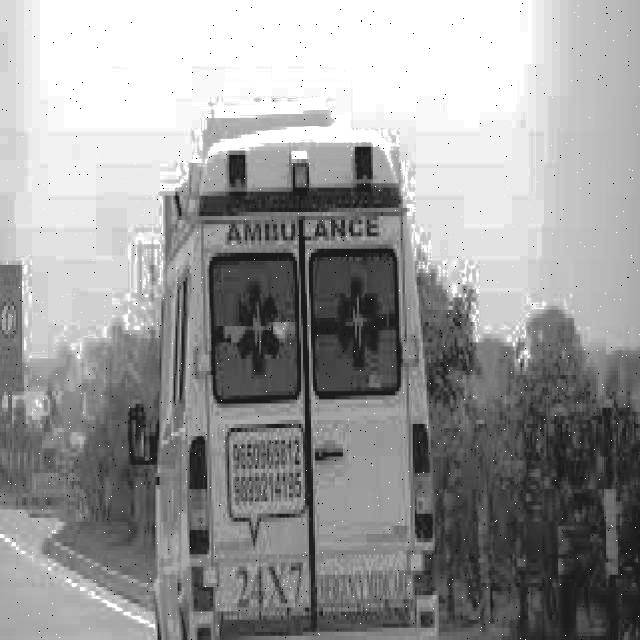LCV: (185, 135, 437, 637)
